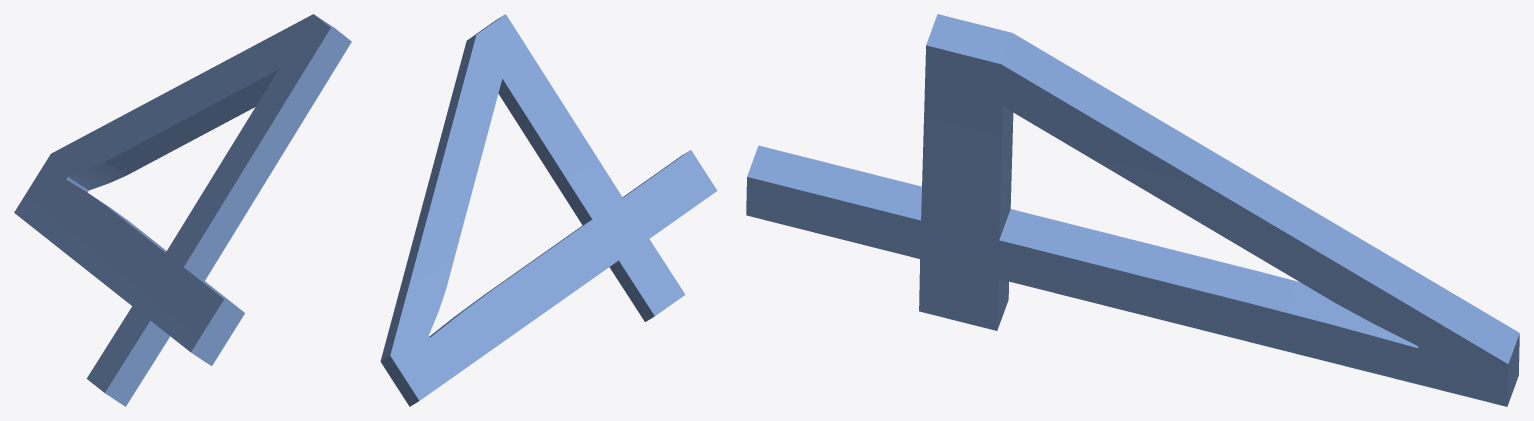
Rendered from New_Number_4.gltf.
The picture shows the model from 3 angles, left to right: view 1: azimuth 30°, elevation 25°; view 2: azimuth 150°, elevation 25°; view 3: azimuth 270°, elevation 25°; orthographic projection. The views are drawn at different scales.
Visible parts, largest first — view 1: Part 679; view 2: Part 679; view 3: Part 679.
Boxes of the visible parts, x1,y1,x2,y2 form: Part 679: (14,14,351,406); Part 679: (380,14,717,406); Part 679: (746,14,1519,406).
Bounding box in the file's own units: 0.00281 × 0.00348 × 0.00541.
